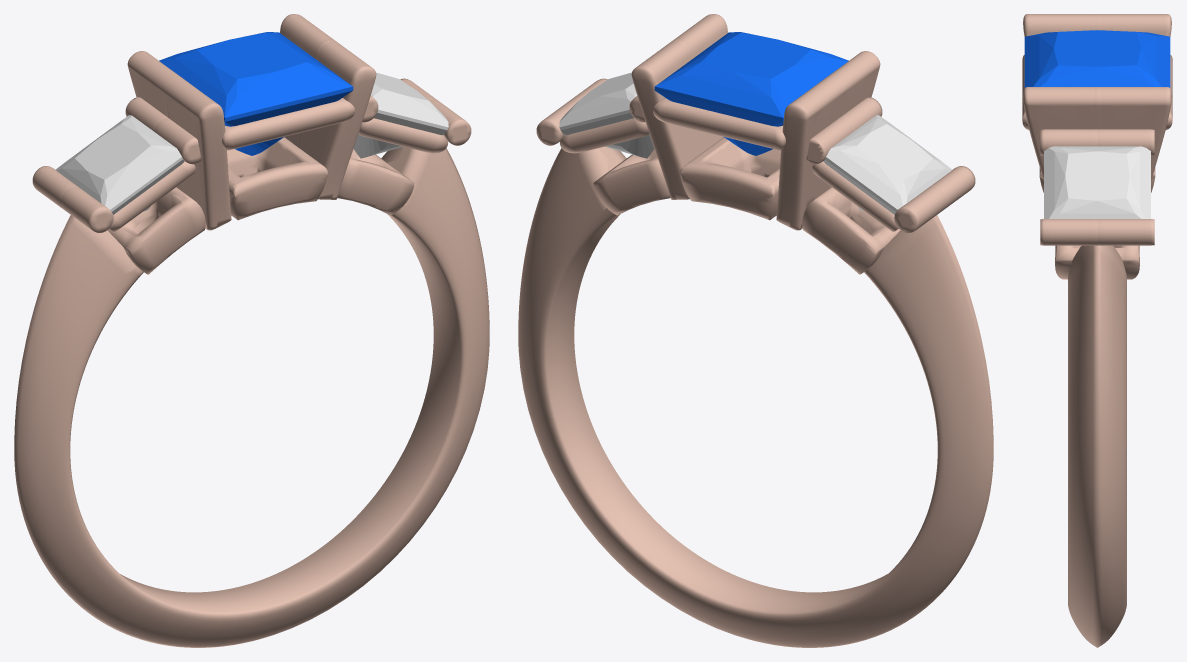
Rendered from bluesapphire-princess-rosegold-halfmoonbezel-knifeedge-3stone.glb.
3 views of the same model, side by side, from view 1: azimuth 30°, elevation 25°; view 2: azimuth 150°, elevation 25°; view 3: azimuth 270°, elevation 25° (orthographic).
Parts seen in each view (by area): view 1: metal, stone, side.002, side; view 2: metal, stone, side.002, side; view 3: metal, stone, side.
Part boxes in pixels (bbox=[...]): metal: bbox=[14, 14, 489, 647]; stone: bbox=[159, 32, 353, 155]; side.002: bbox=[55, 115, 184, 214]; side: bbox=[353, 72, 448, 158]; metal: bbox=[518, 14, 993, 647]; stone: bbox=[654, 32, 848, 155]; side.002: bbox=[823, 115, 952, 214]; side: bbox=[559, 72, 654, 158]; metal: bbox=[1022, 14, 1172, 647]; stone: bbox=[1024, 30, 1170, 87]; side: bbox=[1044, 146, 1150, 218].
Size of the model in its own units: 20.1 by 23.65 by 5.6.
